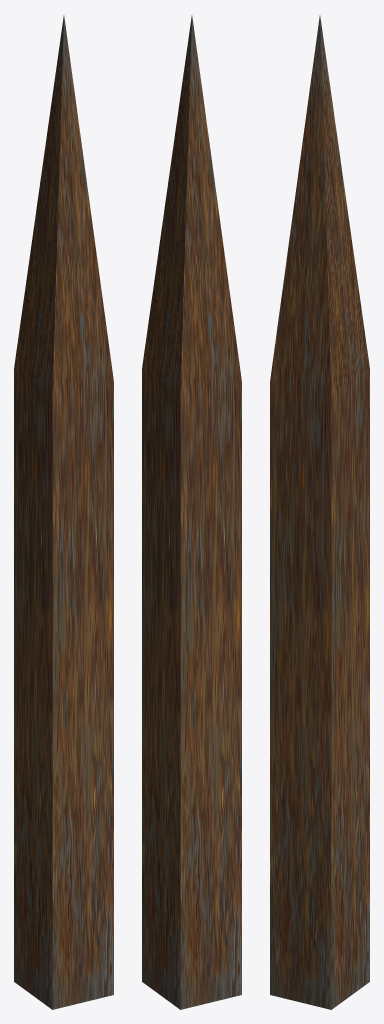
Rendered from EREBOR_SPIKE.fbx.
The picture shows the model from 3 angles, left to right: view 1: azimuth 30°, elevation 25°; view 2: azimuth 210°, elevation 25°; view 3: azimuth 330°, elevation 25°; orthographic projection.
Parts seen in each view (by area): view 1: EREBOR_SPIKE; view 2: EREBOR_SPIKE; view 3: EREBOR_SPIKE.
Boxes of the visible parts, <box> form: EREBOR_SPIKE: <box>14,15,113,1009</box>; EREBOR_SPIKE: <box>142,15,241,1009</box>; EREBOR_SPIKE: <box>270,15,369,1009</box>.
Bounding box in the file's own units: 535 × 8099 × 579.
1 material, 1 textured.
